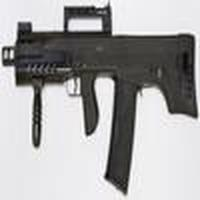gun: (3, 27, 200, 160)
